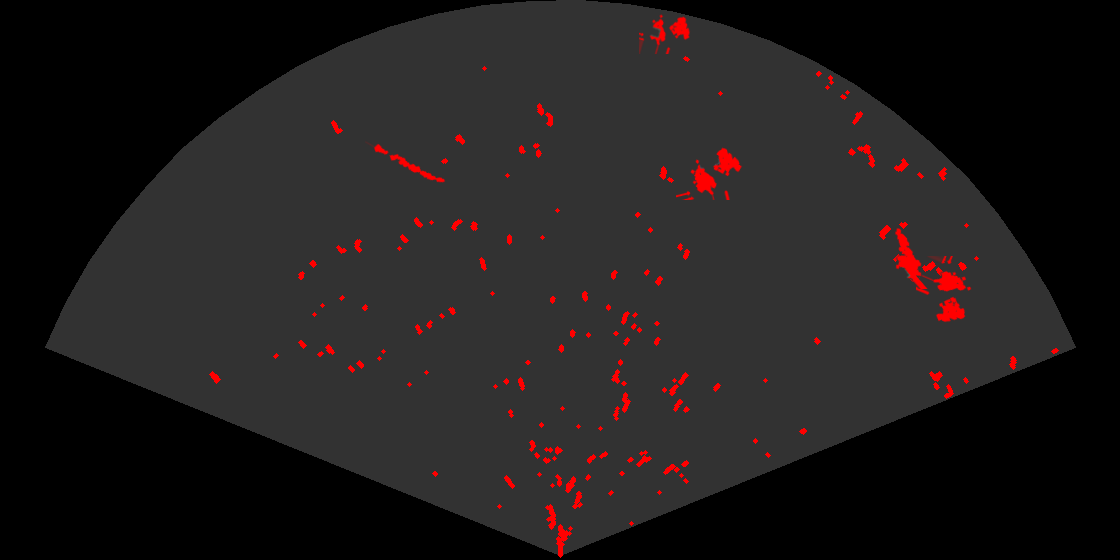cage: (916, 256, 973, 324), (676, 146, 744, 200), (639, 13, 692, 54)
chain: (365, 140, 447, 184)
frogman: (893, 226, 929, 289)
